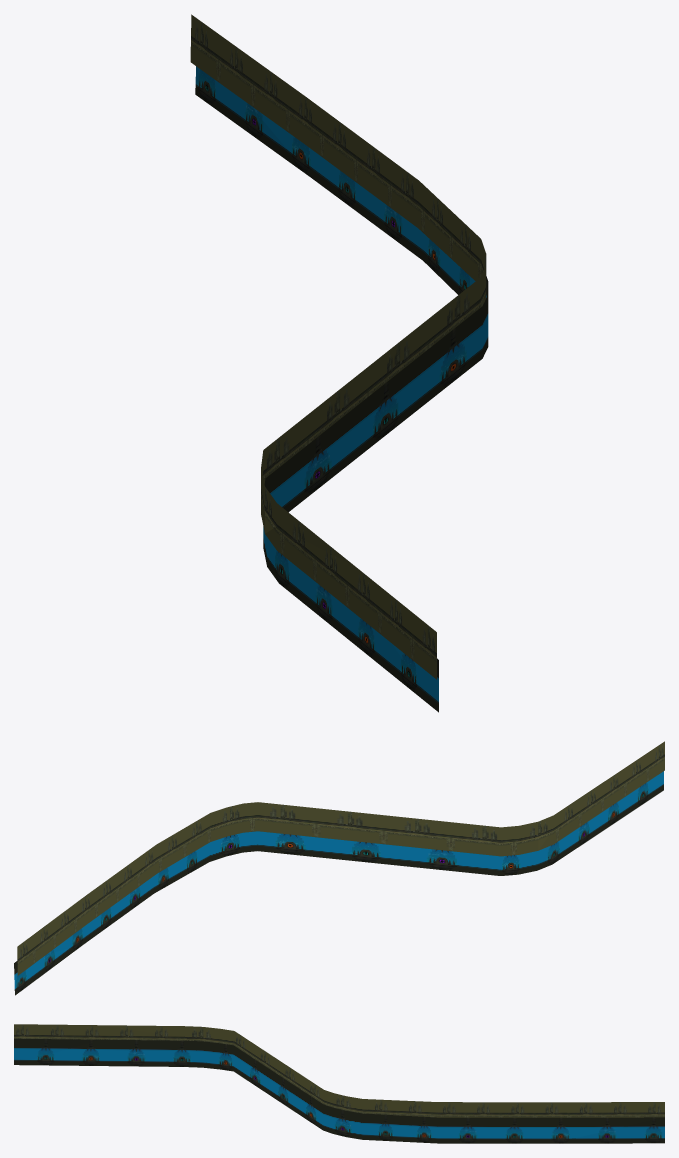
Rendered from stg610_MotPotFar_08.obj.
3 renders of one model, top to bottom at view 1: azimuth 30°, elevation 25°; view 2: azimuth 150°, elevation 25°; view 3: azimuth 270°, elevation 25°, orthographic. The views are drawn at different scales.
Parts seen in each view (by area): view 1: polygon1, polygon0; view 2: polygon1, polygon0; view 3: polygon0, polygon1.
Part boxes in pixels (x1,y1,x2,y2): polygon1: (190,14,486,679); polygon0: (195,66,488,712); polygon1: (17,741,664,975); polygon0: (14,771,663,995); polygon0: (14,1038,664,1143); polygon1: (14,1024,664,1117).
Size of the model in its own units: 1071 by 306 by 2928.
2 materials, 2 textured.
